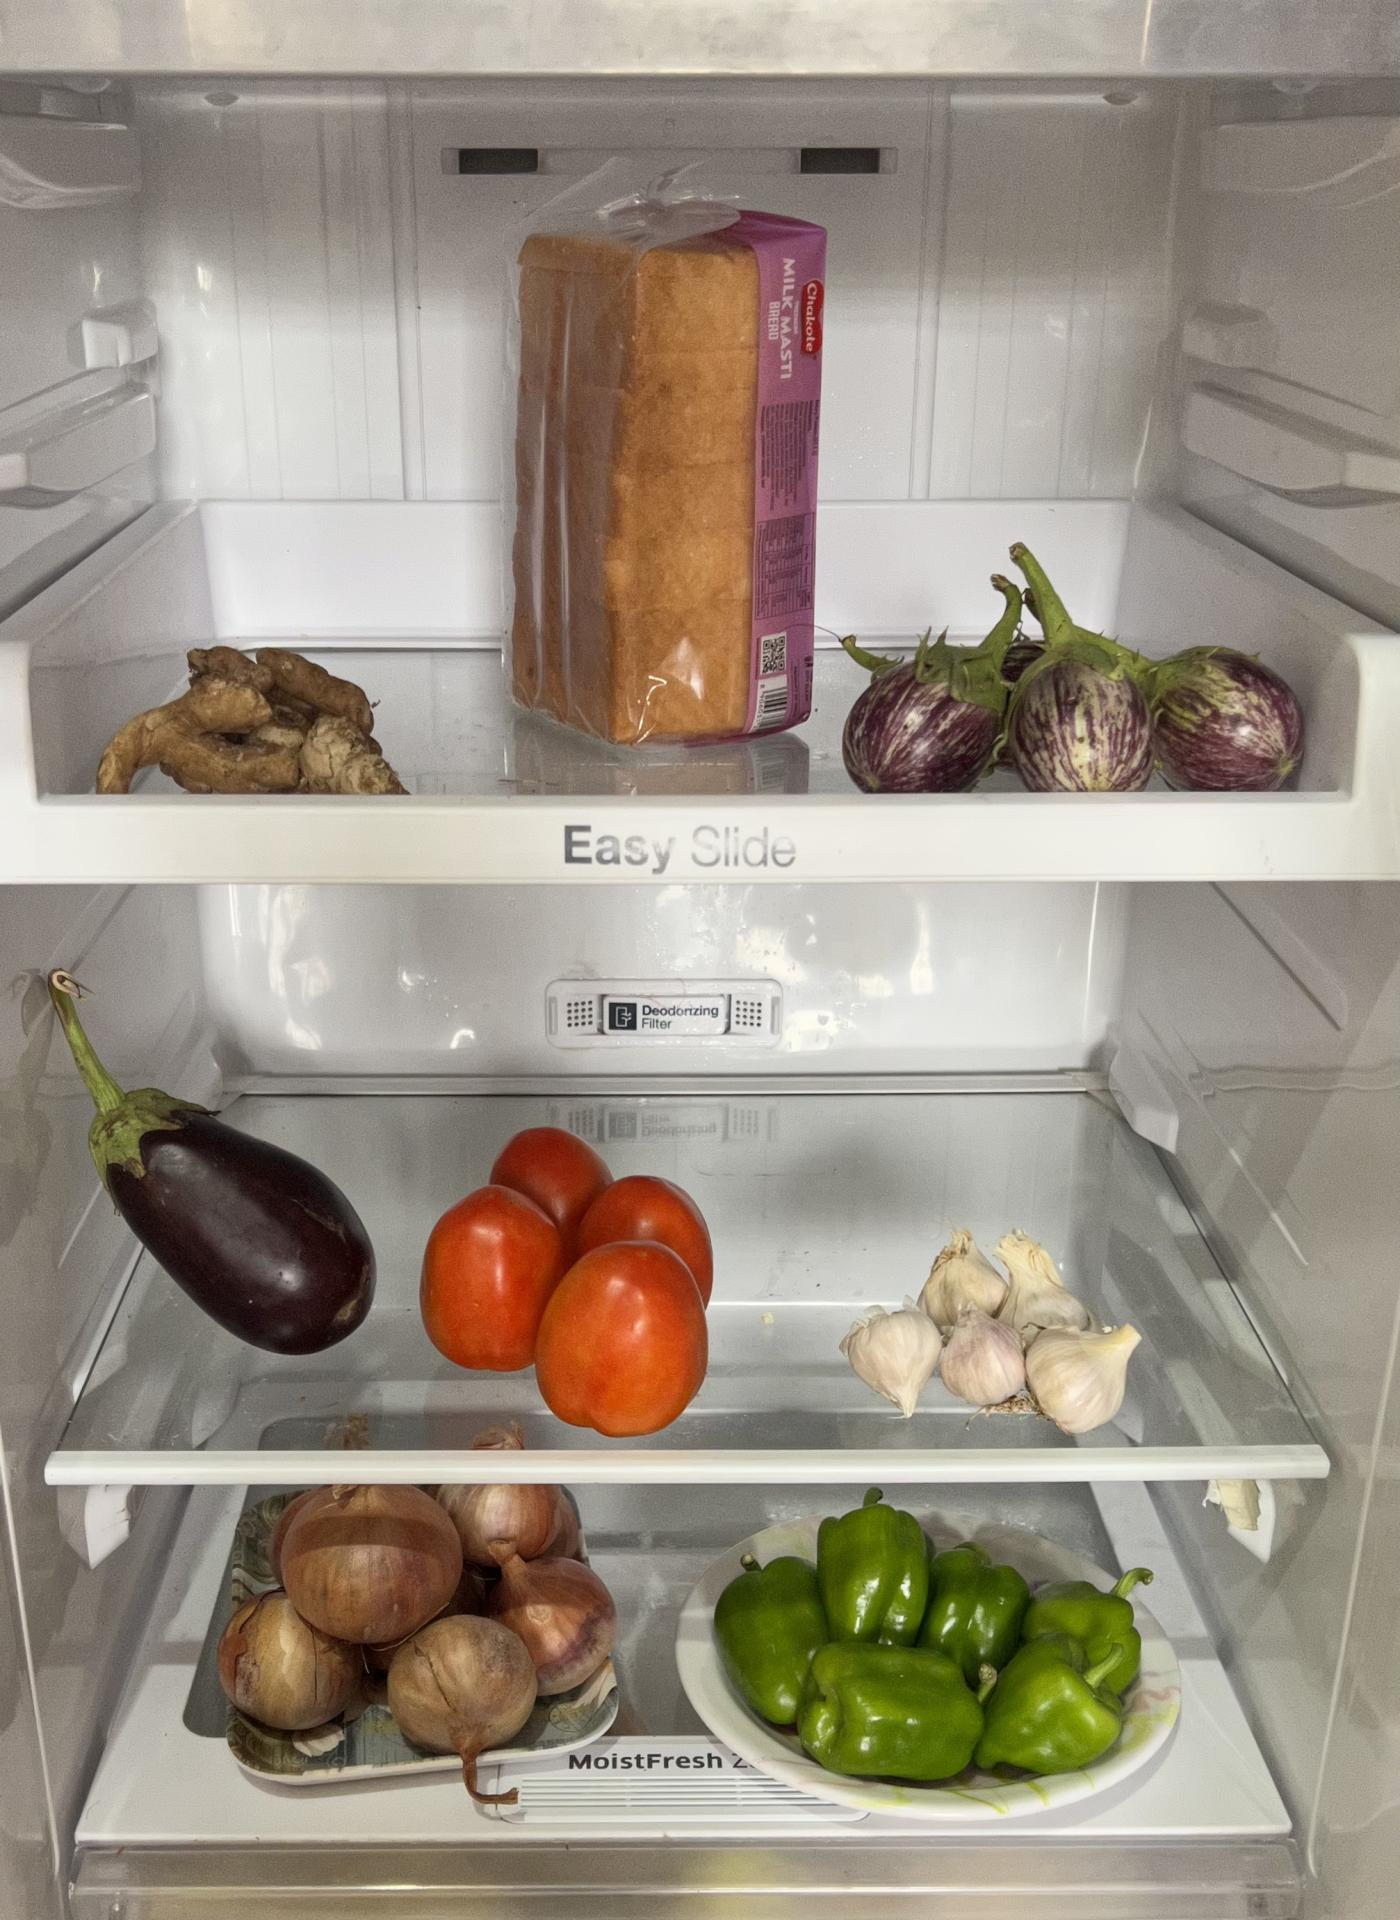bread: (504, 171, 833, 757)
capsicum: (716, 1503, 1142, 1781)
garlic: (850, 1228, 1142, 1425)
ginger: (86, 635, 397, 799)
onion: (207, 1477, 620, 1752)
tomato: (420, 1124, 707, 1436)
